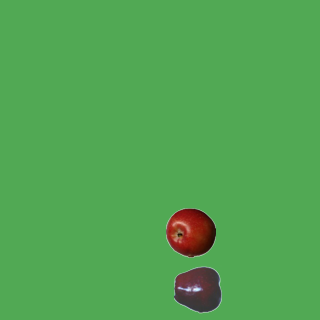Apple Braeburn: (165, 207, 215, 257)
Apple Red Delicious: (173, 264, 223, 314)
